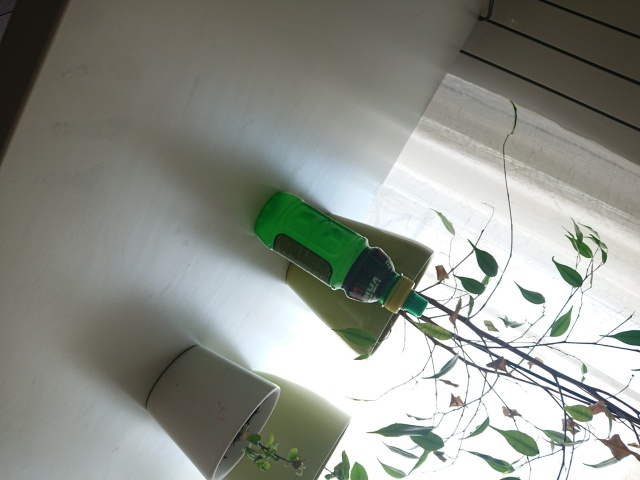Vindi Iso Sport Lemon-Grapefruit 500mL: (251, 189, 430, 320)
